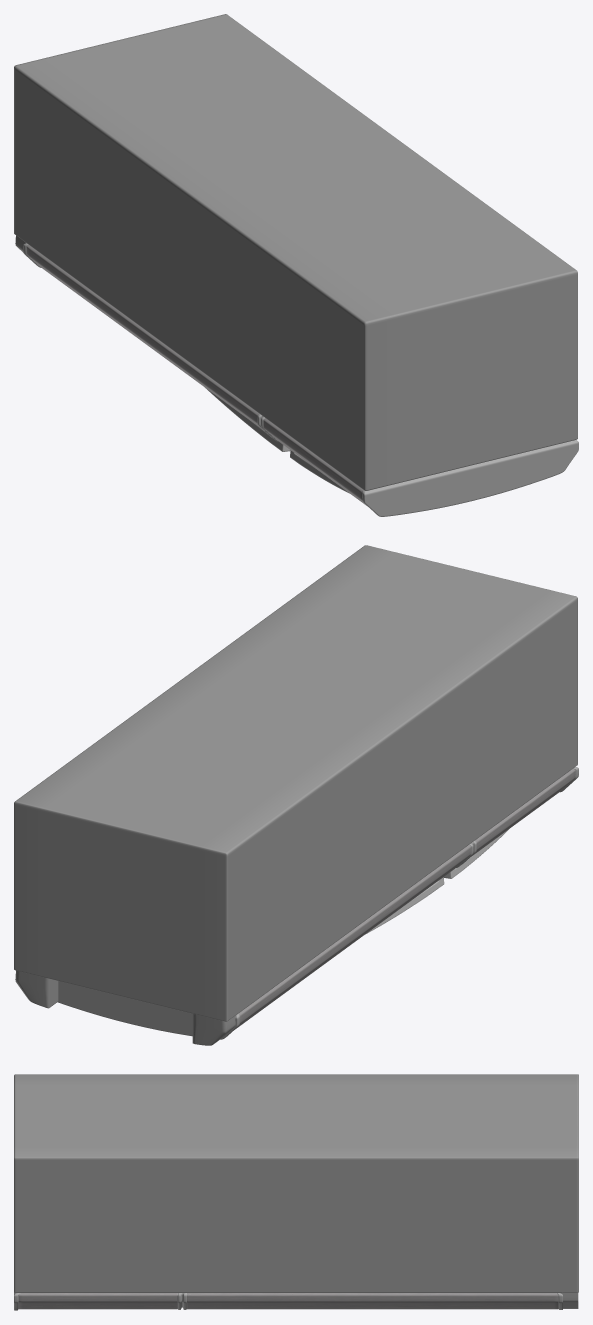
Rendered from refrigerador.glb.
3 views of the same model, one above another, from view 1: azimuth 30°, elevation 25°; view 2: azimuth 150°, elevation 25°; view 3: azimuth 270°, elevation 25° (orthographic). The views are drawn at different scales.
Parts seen in each view (by area): view 1: Node1, Node4, Node2, Node9; view 2: Node1, Node2, Node4, Node9; view 3: Node1, Node2, Node4.
Part boxes in pixels (x1,y1,x2,y2): Node1: [14, 14, 577, 490]; Node4: [23, 243, 578, 516]; Node2: [26, 245, 366, 505]; Node9: [204, 387, 349, 493]; Node1: [14, 545, 577, 1045]; Node2: [233, 769, 575, 1030]; Node4: [58, 767, 578, 1039]; Node9: [365, 829, 508, 934]; Node1: [14, 1074, 578, 1308]; Node2: [18, 1293, 558, 1309]; Node4: [14, 1292, 562, 1310].
Bounding box in the file's own units: 71.27 × 68.5 × 202.
Materials: 5 (2 with a texture image).
